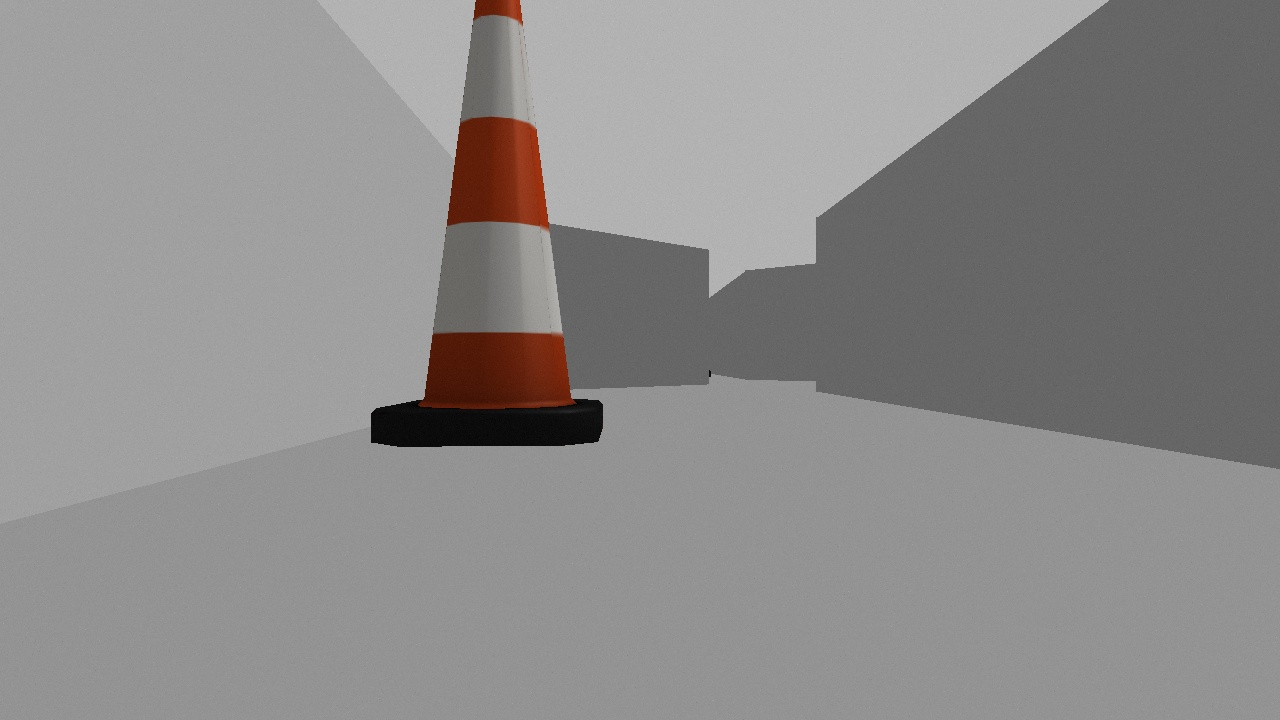barricade: (346, 1, 622, 462)
